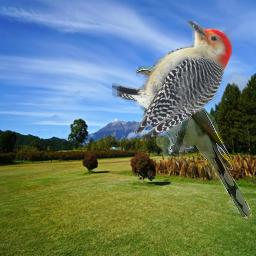Cuckoo: (136, 66, 252, 219)
Woodpecker: (112, 21, 233, 141)
